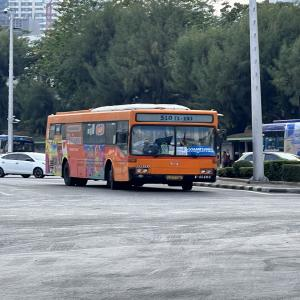BMTA-bus: (44, 104, 220, 192)
Bus Line Number: (155, 114, 197, 124)
Bus Side Number: (191, 174, 213, 180)
Destination Sign: (186, 147, 216, 155)
